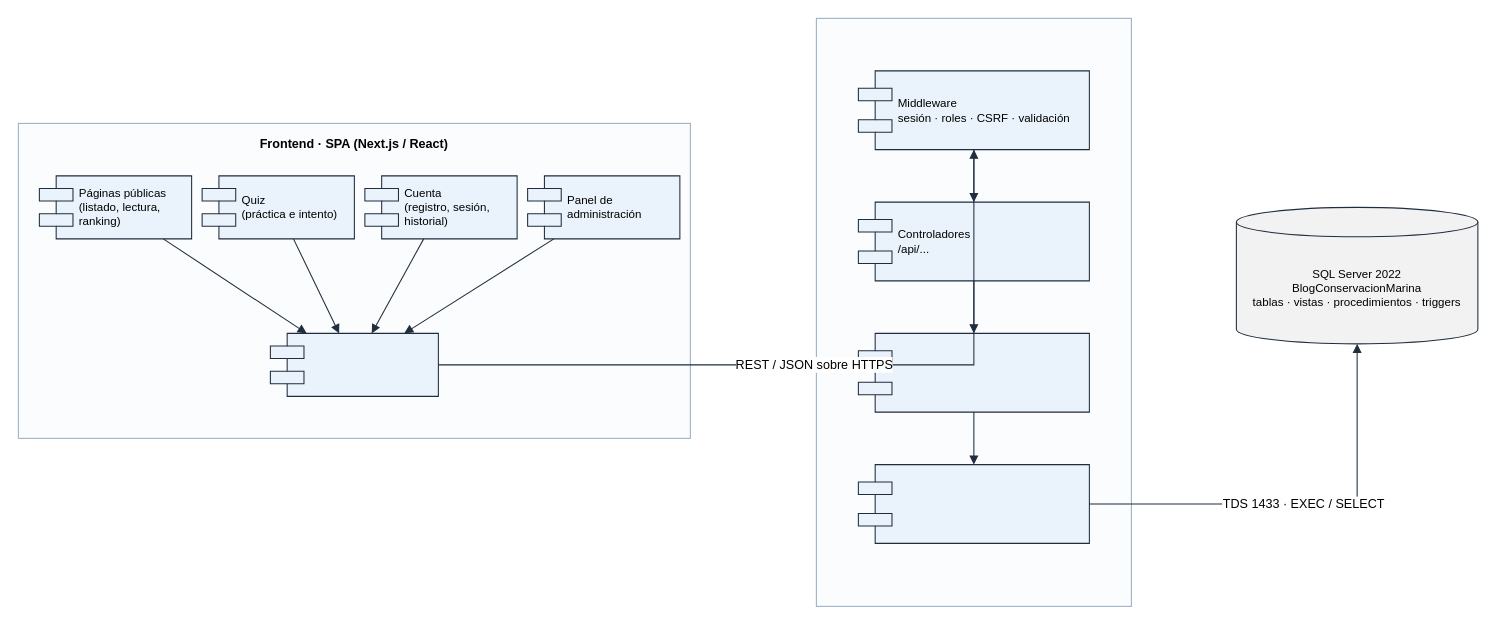
Some shapes in this 1496 by 625 pixel diagram are drawn without their labels. The shapes that lost their labels are listed below. From the top down, each one's box as (x1, y1, x2, y2) in pixels, then its label:
(815, 17, 1131, 606): Backend · API REST (Node.js / Express)
(269, 332, 438, 396): Cliente HTTP (fetch + credenciales)
(857, 332, 1089, 412): Servicios de dominio publicaciones · quizzes · intentos · ranking · auditoría
(857, 464, 1089, 543): Repositorios (driver mssql)
